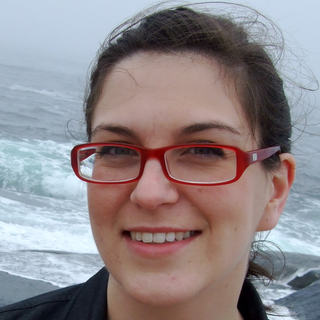eye: (179, 140, 228, 163), (91, 141, 136, 163)
